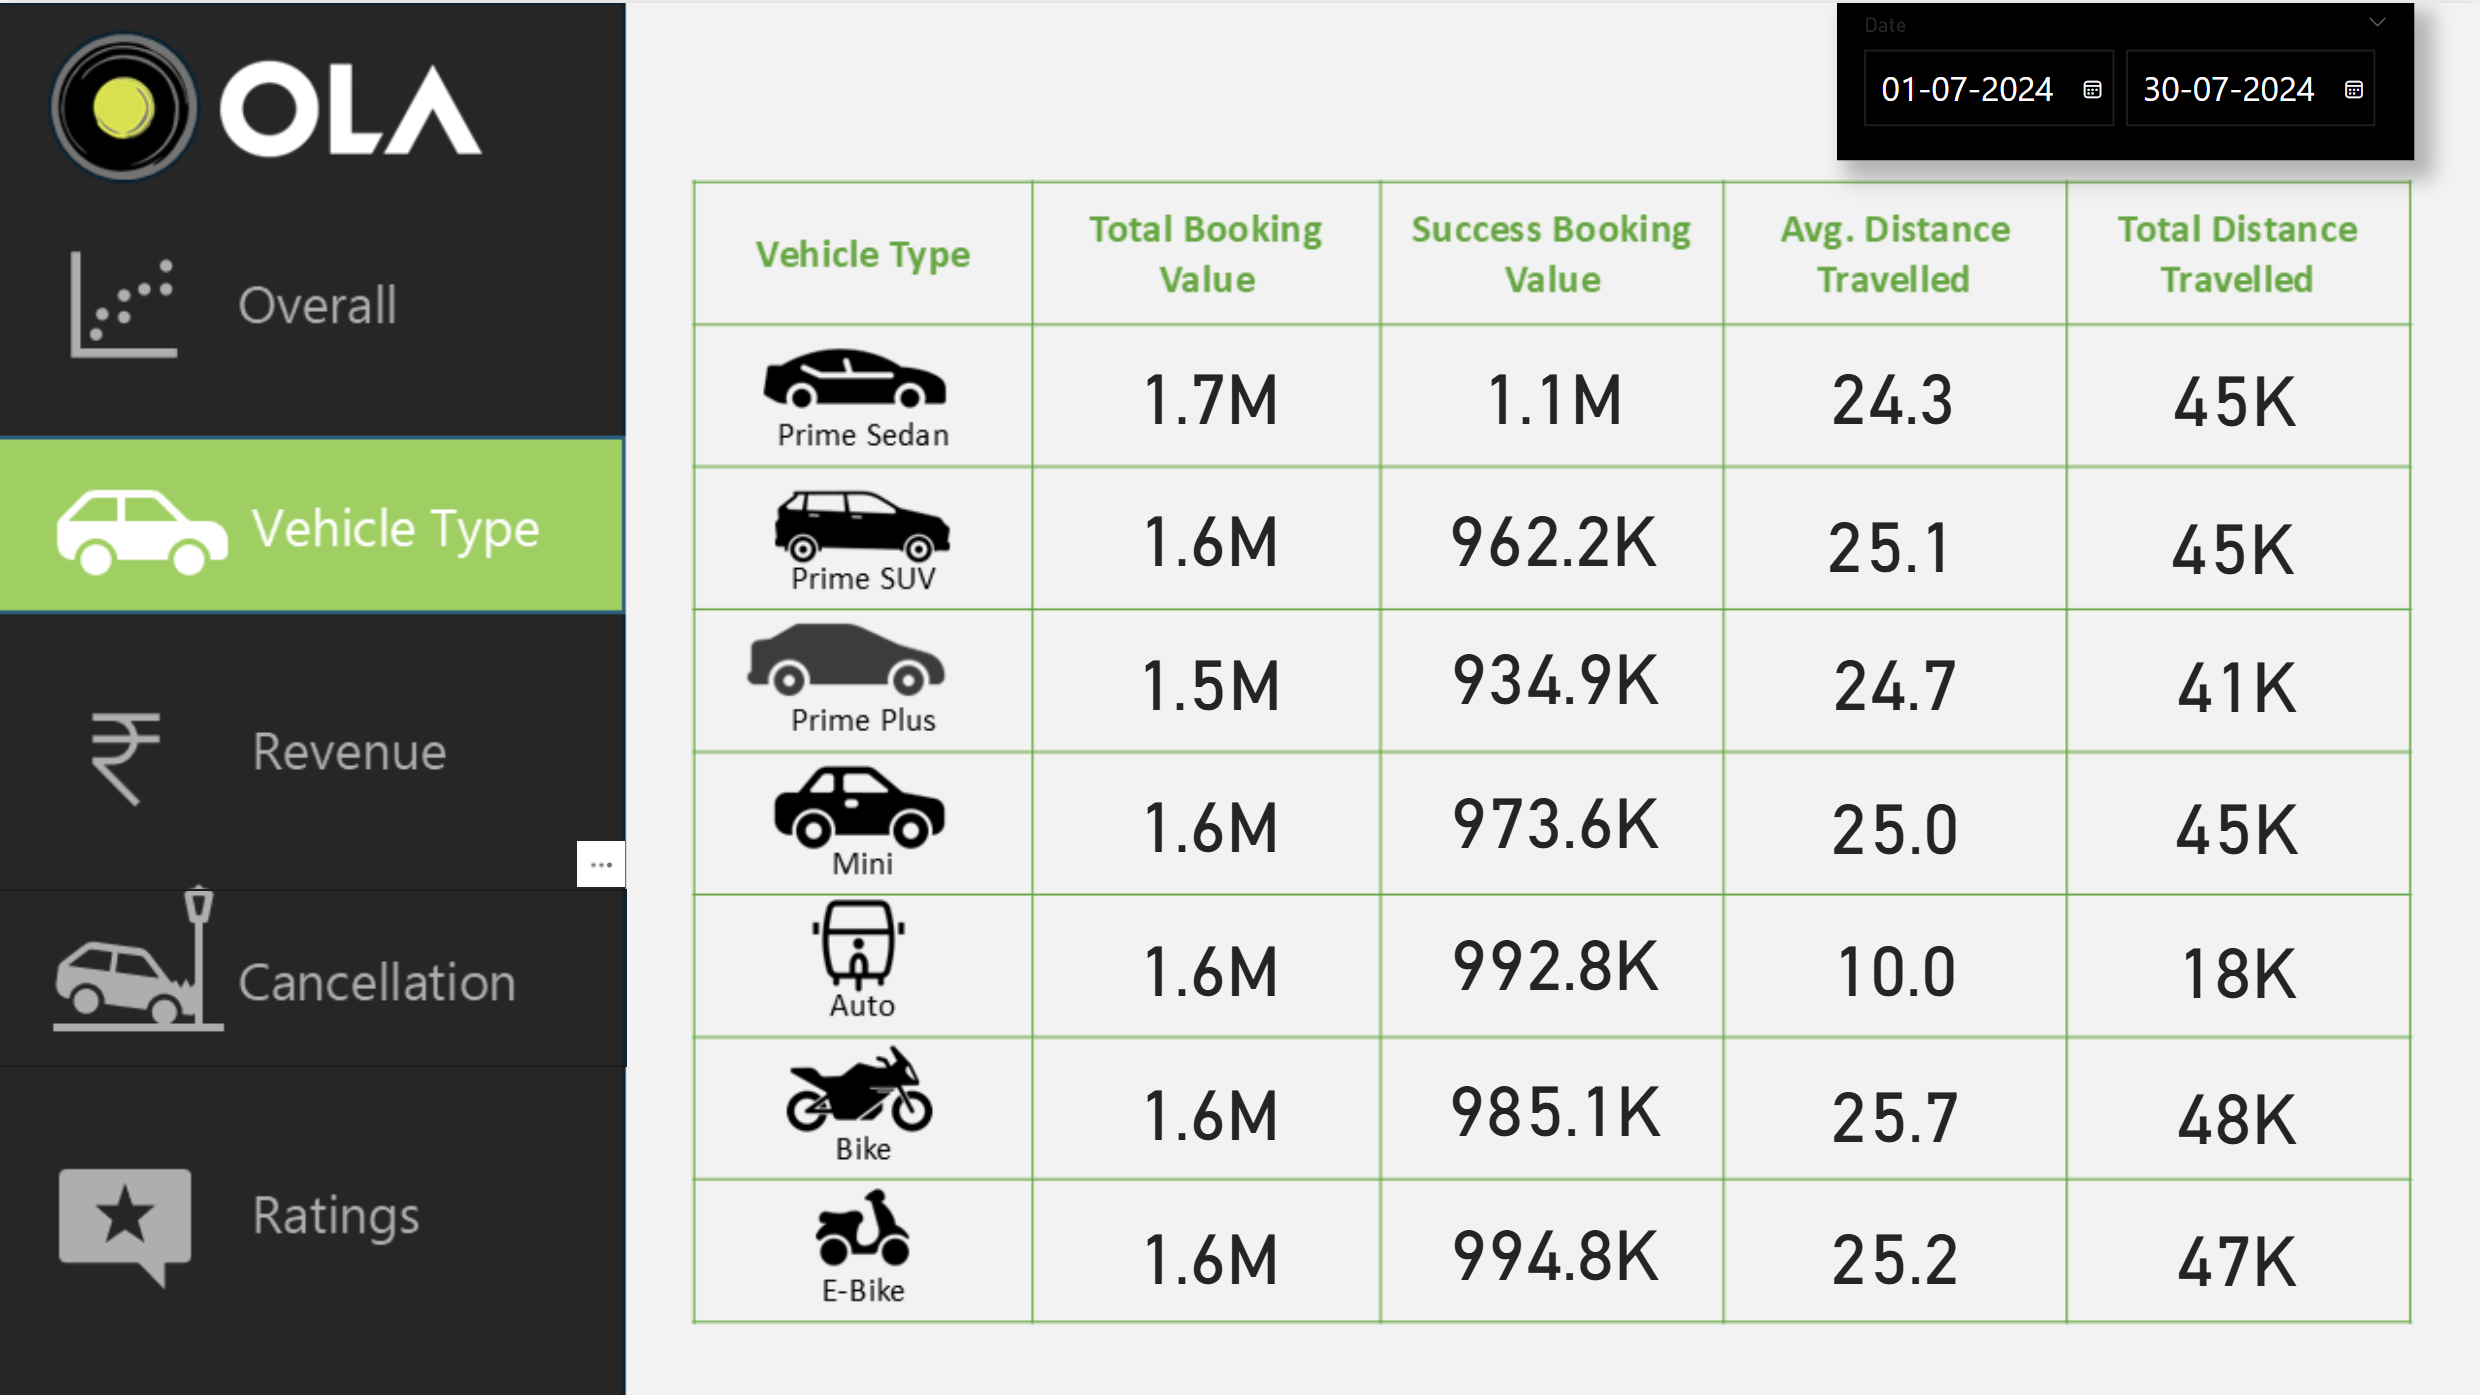

Layout of this report page (visuals, bound fields, positions):
{"tool":"powerbi","page":{"name":"Vehicle Type","canvas":[1280,720],"ordinal":1},"visuals":[{"type":"actionButton","box":[0,339.8,325,92],"z":0},{"type":"actionButton","box":[0,456.8,325,92],"z":1000},{"type":"actionButton","box":[0,581.8,325,92],"z":2000},{"type":"actionButton","box":[0,109.1,325,92],"z":3000},{"type":"card","fields":{"Values":["Sum(July.Booking_Value)"]},"box":[560.5,175,127.6,51.3],"z":4000},{"type":"card","fields":{"Values":["Sum(July.Booking_Value)"]},"box":[560.5,248.7,127.6,51.3],"z":5000},{"type":"card","fields":{"Values":["Sum(July.Booking_Value)"]},"box":[560.5,322.4,127.6,51.3],"z":6000},{"type":"card","fields":{"Values":["Sum(July.Booking_Value)"]},"box":[560.5,396.1,127.6,51.3],"z":7000},{"type":"card","fields":{"Values":["Sum(July.Booking_Value)"]},"box":[560.5,469.7,127.6,51.3],"z":8000},{"type":"card","fields":{"Values":["Sum(July.Booking_Value)"]},"box":[560.5,544.7,127.6,51.3],"z":9000},{"type":"card","fields":{"Values":["Sum(July.Booking_Value)"]},"box":[560.5,618.4,127.6,51.3],"z":10000},{"type":"card","fields":{"Values":["Sum(July.Booking_Value)"]},"box":[738.2,175,127.6,51.3],"z":11000},{"type":"card","fields":{"Values":["Sum(July.Booking_Value)"]},"box":[738.2,248.7,127.6,51.3],"z":12000},{"type":"card","fields":{"Values":["Sum(July.Booking_Value)"]},"box":[739.5,320,127.6,51.3],"z":13000},{"type":"card","fields":{"Values":["Sum(July.Booking_Value)"]},"box":[739.5,393.7,127.6,51.3],"z":14000},{"type":"card","fields":{"Values":["Sum(July.Booking_Value)"]},"box":[739.5,467.4,127.6,51.3],"z":15000},{"type":"card","fields":{"Values":["Sum(July.Booking_Value)"]},"box":[739.5,542.4,127.6,51.3],"z":16000},{"type":"card","fields":{"Values":["Sum(July.Booking_Value)"]},"box":[739.5,616,127.6,51.3],"z":17000},{"type":"card","fields":{"Values":["Avg(July.Ride_Distance)"]},"box":[913.2,175,127.6,51.3],"z":18000},{"type":"card","fields":{"Values":["Avg(July.Ride_Distance)"]},"box":[912.6,251.4,127.6,51.3],"z":19000},{"type":"card","fields":{"Values":["Avg(July.Ride_Distance)"]},"box":[913.9,322.8,127.6,51.3],"z":20000},{"type":"card","fields":{"Values":["Avg(July.Ride_Distance)"]},"box":[913.9,396.4,127.6,51.3],"z":21000},{"type":"card","fields":{"Values":["Avg(July.Ride_Distance)"]},"box":[913.9,470.1,127.6,51.3],"z":22000},{"type":"card","fields":{"Values":["Avg(July.Ride_Distance)"]},"box":[913.9,545.1,127.6,51.3],"z":23000},{"type":"card","fields":{"Values":["Avg(July.Ride_Distance)"]},"box":[913.9,618.8,127.6,51.3],"z":24000},{"type":"card","fields":{"Values":["Sum(July.Ride_Distance)"]},"box":[1089.6,175.8,127.6,51.3],"z":25000},{"type":"card","fields":{"Values":["Sum(July.Ride_Distance)"]},"box":[1089.1,252.2,127.6,51.3],"z":26000},{"type":"card","fields":{"Values":["Sum(July.Ride_Distance)"]},"box":[1090.4,323.5,127.6,51.3],"z":27000},{"type":"card","fields":{"Values":["Sum(July.Ride_Distance)"]},"box":[1090.4,397.2,127.6,51.3],"z":28000},{"type":"card","fields":{"Values":["Sum(July.Ride_Distance)"]},"box":[1090.4,470.9,127.6,51.3],"z":29000},{"type":"card","fields":{"Values":["Sum(July.Ride_Distance)"]},"box":[1090.4,545.9,127.6,51.3],"z":30000},{"type":"card","fields":{"Values":["Sum(July.Ride_Distance)"]},"box":[1090.4,619.6,127.6,51.3],"z":31000},{"type":"slicer","title":"Date","fields":{"Values":["July.Date"]},"box":[947.9,0,297.3,80.8],"z":32000}]}

Visuals, with their boxes on the page's 1280x720 design canvas (x1, y1, x2, y2). These are canvas units, not pixel positions in the 2480x1395 screenshot, which may show the page scaled, cropped or inside an application window:
actionButton: 0,340,325,432
actionButton: 0,457,325,549
actionButton: 0,582,325,674
actionButton: 0,109,325,201
card - Sum(July.Booking_Value): 560,175,688,226
card - Sum(July.Booking_Value): 560,249,688,300
card - Sum(July.Booking_Value): 560,322,688,374
card - Sum(July.Booking_Value): 560,396,688,447
card - Sum(July.Booking_Value): 560,470,688,521
card - Sum(July.Booking_Value): 560,545,688,596
card - Sum(July.Booking_Value): 560,618,688,670
card - Sum(July.Booking_Value): 738,175,866,226
card - Sum(July.Booking_Value): 738,249,866,300
card - Sum(July.Booking_Value): 740,320,867,371
card - Sum(July.Booking_Value): 740,394,867,445
card - Sum(July.Booking_Value): 740,467,867,519
card - Sum(July.Booking_Value): 740,542,867,594
card - Sum(July.Booking_Value): 740,616,867,667
card - Avg(July.Ride_Distance): 913,175,1041,226
card - Avg(July.Ride_Distance): 913,251,1040,303
card - Avg(July.Ride_Distance): 914,323,1042,374
card - Avg(July.Ride_Distance): 914,396,1042,448
card - Avg(July.Ride_Distance): 914,470,1042,521
card - Avg(July.Ride_Distance): 914,545,1042,596
card - Avg(July.Ride_Distance): 914,619,1042,670
card - Sum(July.Ride_Distance): 1090,176,1217,227
card - Sum(July.Ride_Distance): 1089,252,1217,304
card - Sum(July.Ride_Distance): 1090,324,1218,375
card - Sum(July.Ride_Distance): 1090,397,1218,448
card - Sum(July.Ride_Distance): 1090,471,1218,522
card - Sum(July.Ride_Distance): 1090,546,1218,597
card - Sum(July.Ride_Distance): 1090,620,1218,671
"Date" slicer: 948,0,1245,81
